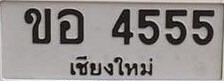txt02: (23, 7, 53, 45)
txt38: (57, 7, 85, 45)
